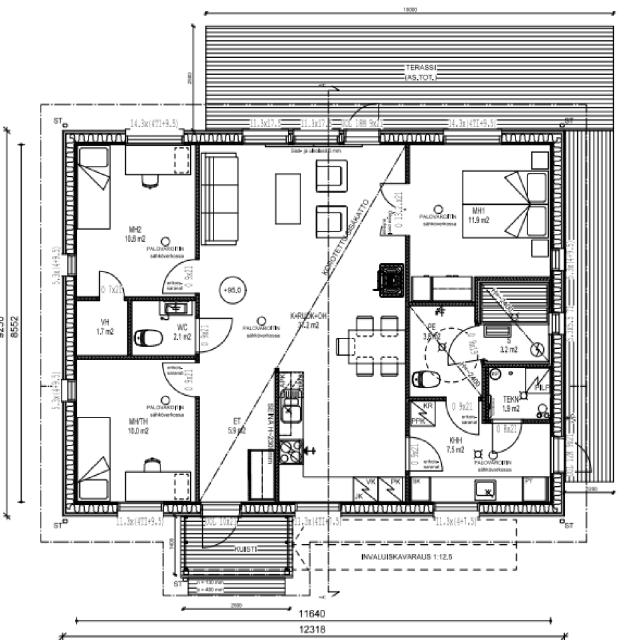door: (197, 503, 242, 553), (344, 98, 384, 146), (157, 253, 201, 296), (190, 313, 236, 354), (404, 431, 446, 475), (158, 356, 199, 398), (446, 398, 484, 438), (489, 417, 524, 455), (378, 175, 410, 210), (95, 267, 128, 300)
window: (223, 579, 287, 601), (122, 130, 188, 148), (239, 128, 291, 149), (442, 129, 502, 147), (432, 500, 482, 517), (292, 127, 332, 148), (116, 499, 165, 515), (61, 251, 81, 282), (548, 309, 566, 339), (63, 378, 78, 403), (368, 538, 399, 548), (394, 538, 416, 550)
zone: (70, 144, 198, 298), (69, 355, 197, 505), (400, 142, 556, 250), (408, 418, 565, 509), (409, 303, 481, 397), (130, 294, 199, 358), (484, 365, 554, 421), (74, 297, 131, 357)
